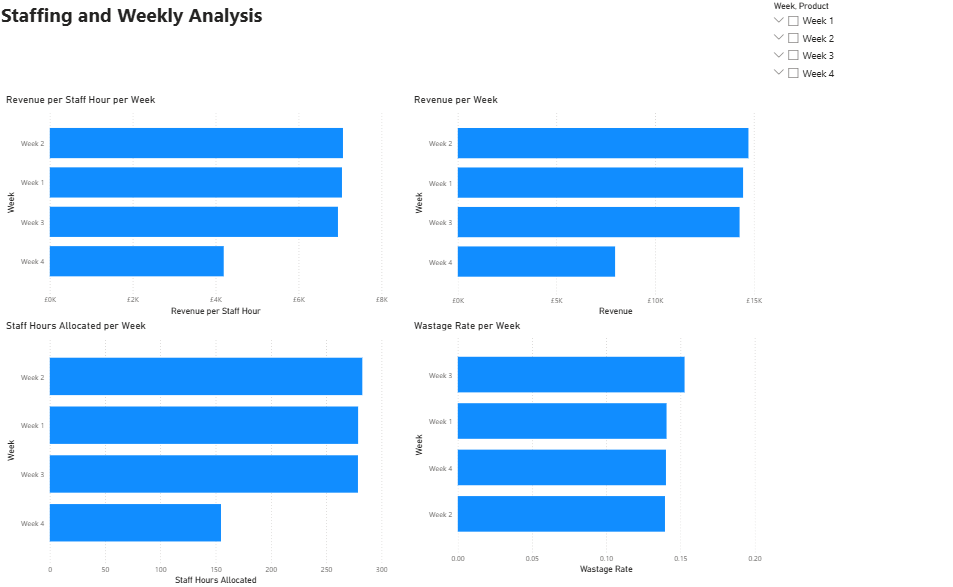

The dashboard page shown, as its layout file describes it:
{"tool":"powerbi","page":{"name":"Weekly Analysis","canvas":[1600,1200],"ordinal":3},"visuals":[{"type":"clusteredBarChart","title":"Revenue per Staff Hour per Week","fields":{"Y":["Sum(BakeryLog.Revenue per Staff Hour)"],"Category":["BakeryLog.Week"]},"box":[8.3,158.3,646,376],"z":0},{"type":"clusteredBarChart","title":"Staff Hours Allocated per Week","fields":{"Y":["Sum(BakeryLog.Staff Hours Allocated)"],"Category":["BakeryLog.Week"]},"box":[8.3,534.3,646,448],"z":1000},{"type":"clusteredBarChart","title":"Revenue per Week","fields":{"Y":["Sum(BakeryLog.Revenue)"],"Category":["BakeryLog.Week"]},"box":[688.3,158.3,623.3,376.7],"z":2000},{"type":"clusteredBarChart","title":"Wastage Rate per Week","fields":{"Y":["Avg(BakeryLog.Wastage Rate)"],"Category":["BakeryLog.Week"]},"box":[688.3,534.3,590,430],"z":3000},{"type":"slicer","fields":{"Values":["BakeryLog.Week","BakeryLog.Product"]},"box":[1280,0,300,440],"z":4000},{"type":"textbox","box":[0,0,690,71.7],"z":4001}]}

Visuals, with their boxes on the page's 1600x1200 design canvas (x1, y1, x2, y2). These are canvas units, not pixel positions in the 953x587 screenshot, which may show the page scaled, cropped or inside an application window:
"Revenue per Staff Hour per Week" clusteredBarChart: bbox=[8, 158, 654, 534]
"Staff Hours Allocated per Week" clusteredBarChart: bbox=[8, 534, 654, 982]
"Revenue per Week" clusteredBarChart: bbox=[688, 158, 1312, 535]
"Wastage Rate per Week" clusteredBarChart: bbox=[688, 534, 1278, 964]
slicer - BakeryLog.Week x BakeryLog.Product: bbox=[1280, 0, 1580, 440]
textbox: bbox=[0, 0, 690, 72]
